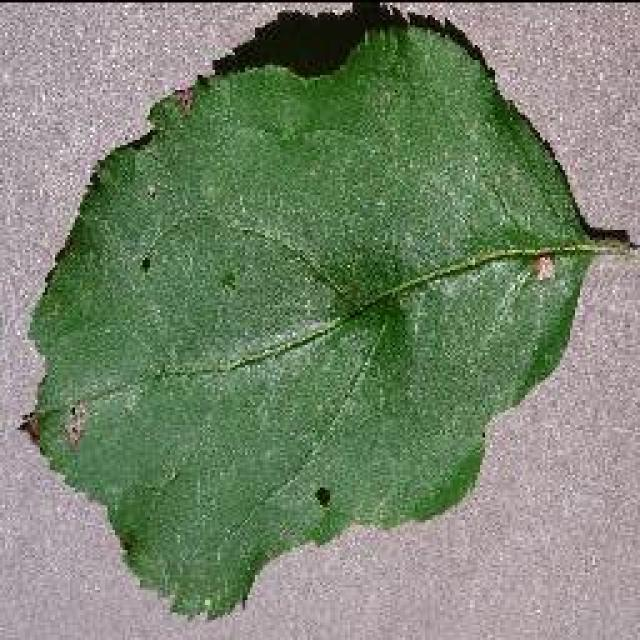apple scab disease: (20, 2, 628, 620)
